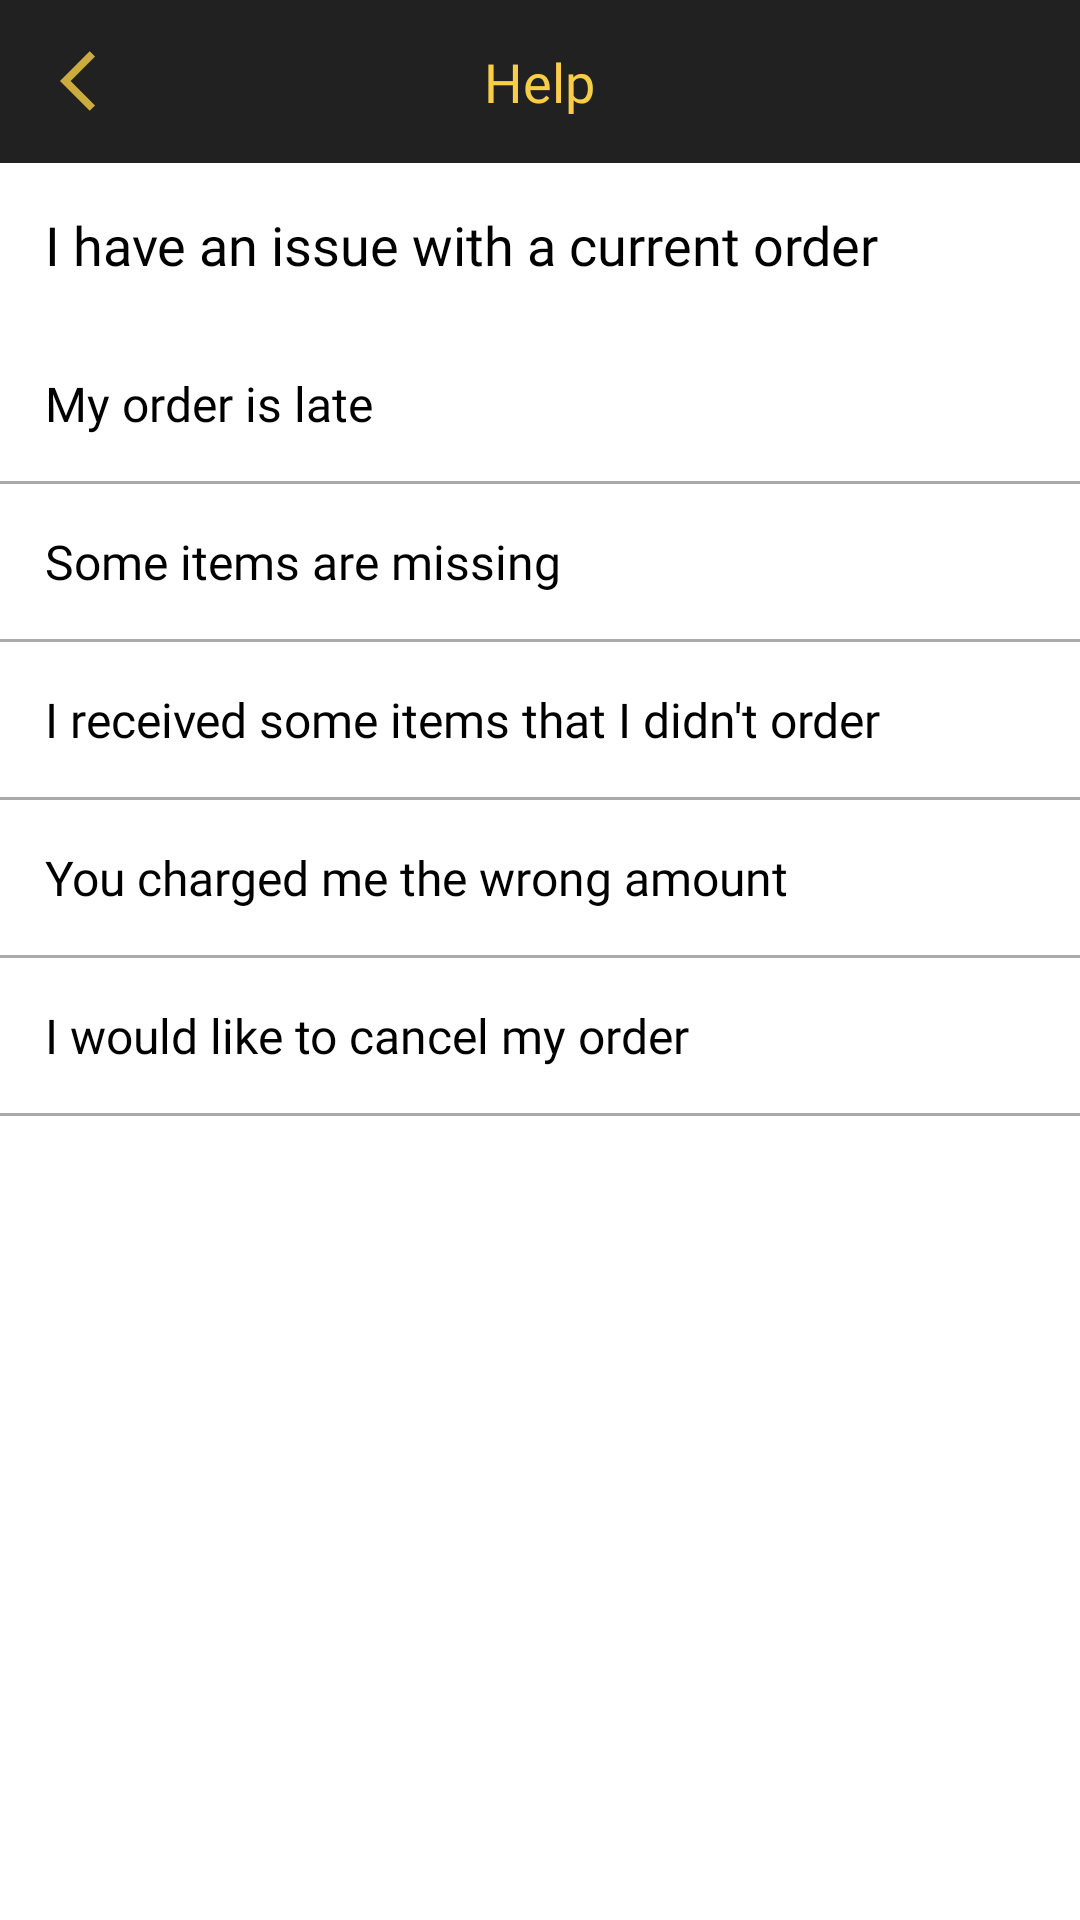

Where icons sit on this 1080 x 1920 app screen, as (x1, y1, x2, y2):
back icon: (60, 51, 95, 111)
